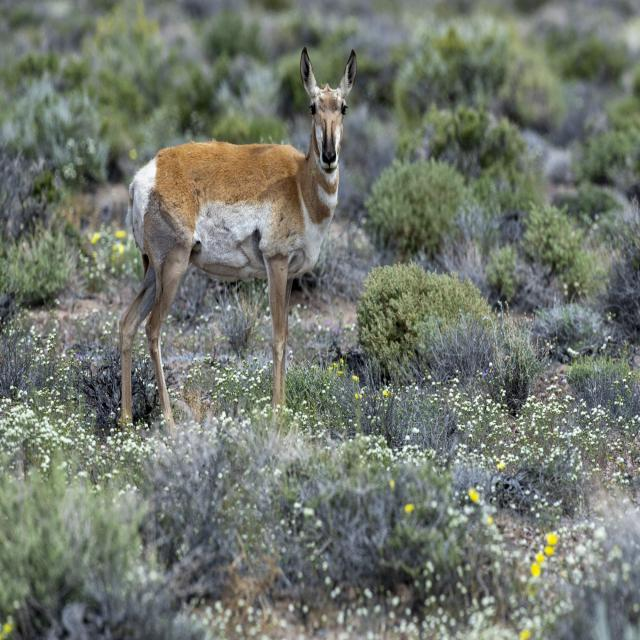Antelope: (117, 47, 363, 444)
